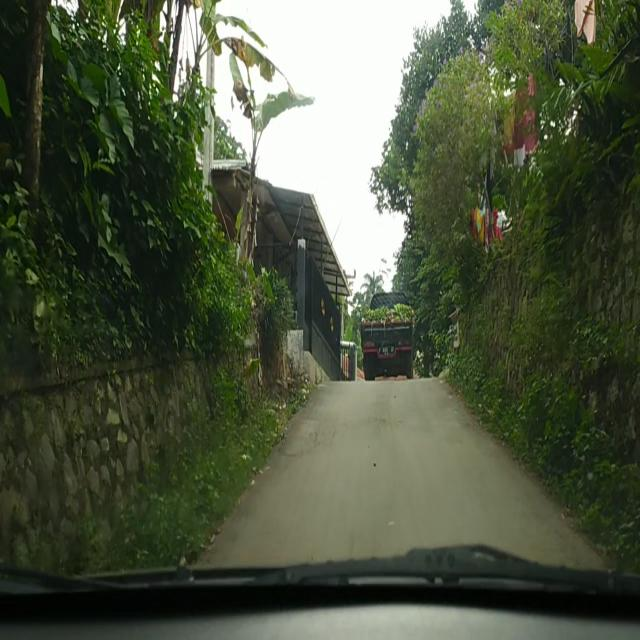Drain Hole: (304, 408, 338, 450)
